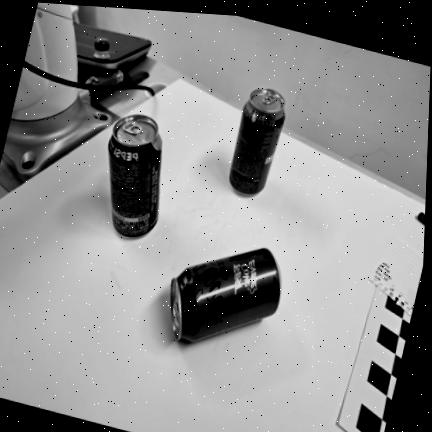can_coke_decaf: (229, 88, 285, 196)
can_coke_zero: (171, 248, 281, 342)
can_pepsi_zero: (109, 115, 162, 237)
